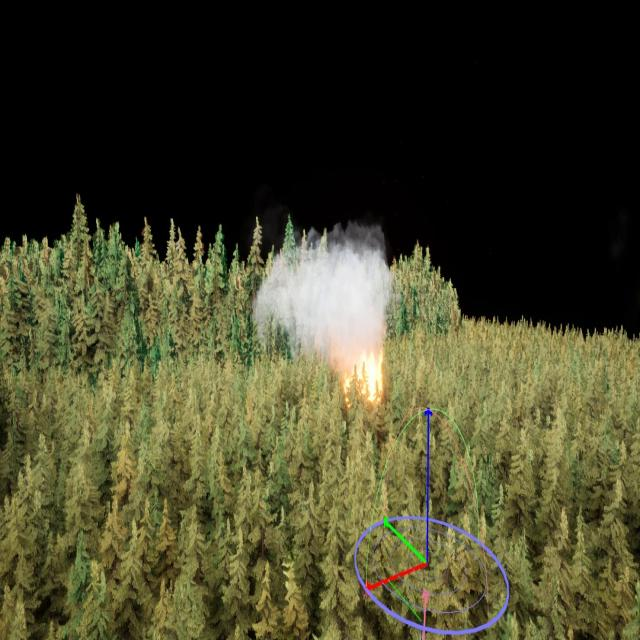fire: (341, 349, 392, 414)
smoke: (256, 226, 394, 366)
